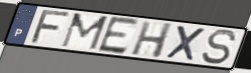E: (95, 15, 142, 56)
F: (27, 9, 74, 45)
H: (129, 20, 175, 60)
M: (58, 12, 111, 52)
S: (200, 28, 239, 66)
X: (164, 24, 208, 63)
